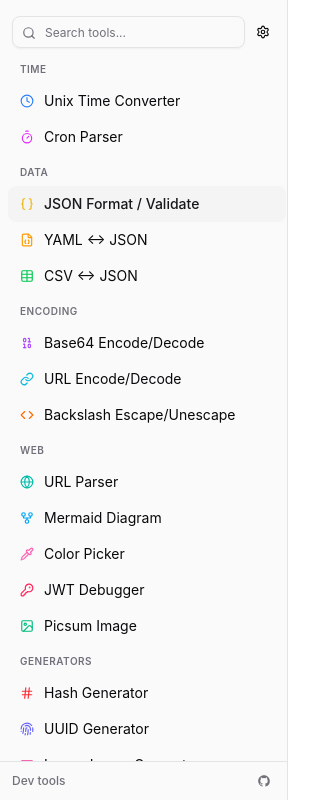
Test: Manage Tools button toggles the tool visibility panel
Click the button named "Manage Tools": (263, 32) [251, 20, 275, 44]
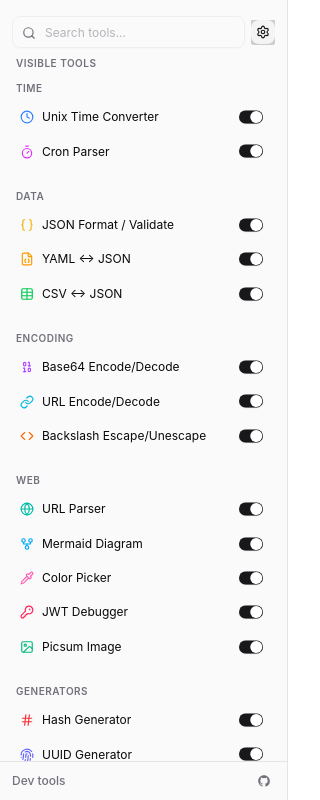
expect the text "Visible Tools" is shown: met, box [16, 56, 96, 71]
